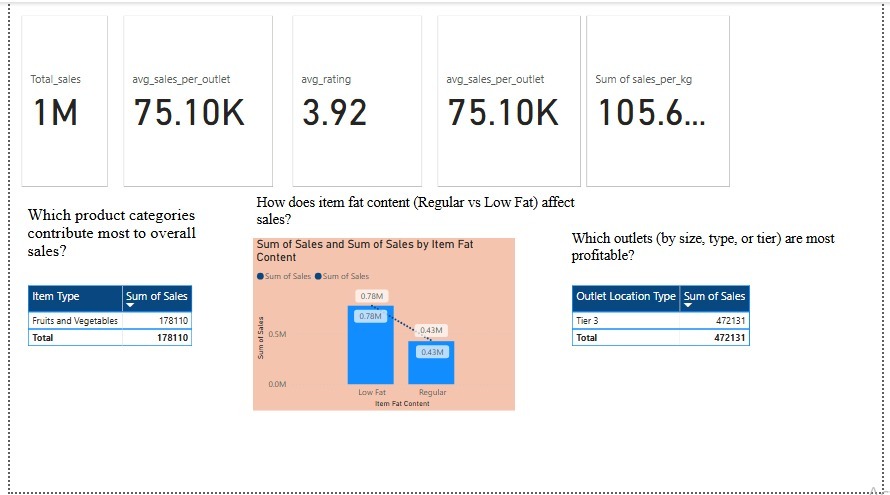

Layout of this report page (visuals, bound fields, positions):
{"tool":"powerbi","page":{"name":"Page 2","canvas":[1280,720],"ordinal":1},"visuals":[{"type":"cardVisual","fields":{"Data":["BlinkIT Grocery Data.Total_sales"]},"box":[11.8,15.1,137.7,262],"z":0},{"type":"cardVisual","fields":{"Data":["BlinkIT Grocery Data.avg_sales_per_outlet"]},"box":[161.3,15.1,230.1,262],"z":1000},{"type":"cardVisual","fields":{"Data":["BlinkIT Grocery Data.avg_rating"]},"box":[409.9,15.1,201.6,262],"z":2000},{"type":"cardVisual","fields":{"Data":["BlinkIT Grocery Data.avg_sales_per_outlet","Sum(BlinkIT Grocery Data.sales_per_kg)"]},"box":[623.2,15.1,441.8,262],"z":3000},{"type":"tableEx","fields":{"Values":["Item details.Item Type","Sum(BlinkIT Grocery Data.Sales)"]},"box":[20.2,411.5,280.5,136.1],"z":4000},{"type":"textbox","box":[20.2,294,280.5,104.1],"z":5000},{"type":"lineStackedColumnComboChart","fields":{"Category":["Item nutrition.Item Fat Content"],"Y":["Sum(BlinkIT Grocery Data.Sales)"],"Y2":["Sum(BlinkIT Grocery Data.Sales)"]},"box":[357.8,346,384.7,255.3],"z":6000},{"type":"textbox","box":[357.8,277.2,522.4,68.9],"z":7000},{"type":"textbox","box":[819.7,330.9,416.6,80.6],"z":8000},{"type":"tableEx","fields":{"Values":["Outlet Location details.Outlet Location Type","Sum(sales table.Sales)"]},"box":[819.7,411.5,332.6,147.8],"z":9000}]}

Visuals, with their boxes in screenshot pixels (x1, y1, x2, y2), scaled from the page's 1280x720 canvas onto the 890x495 screenshot:
cardVisual - BlinkIT Grocery Data.Total_sales: region(8, 10, 104, 191)
cardVisual - BlinkIT Grocery Data.avg_sales_per_outlet: region(112, 10, 272, 191)
cardVisual - BlinkIT Grocery Data.avg_rating: region(285, 10, 425, 191)
cardVisual - BlinkIT Grocery Data.avg_sales_per_outlet x Sum(BlinkIT Grocery Data.sales_per_kg): region(433, 10, 741, 191)
tableEx - Item details.Item Type x Sum(BlinkIT Grocery Data.Sales): region(14, 283, 209, 376)
textbox: region(14, 202, 209, 274)
lineStackedColumnComboChart - Item nutrition.Item Fat Content x Sum(BlinkIT Grocery Data.Sales): region(249, 238, 516, 413)
textbox: region(249, 191, 612, 238)
textbox: region(570, 227, 860, 283)
tableEx - Outlet Location details.Outlet Location Type x Sum(sales table.Sales): region(570, 283, 801, 385)
